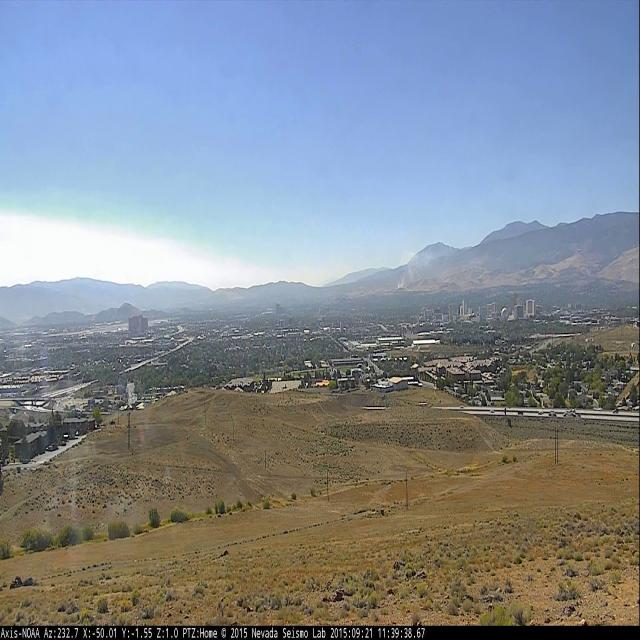smoke: (398, 247, 437, 289)
